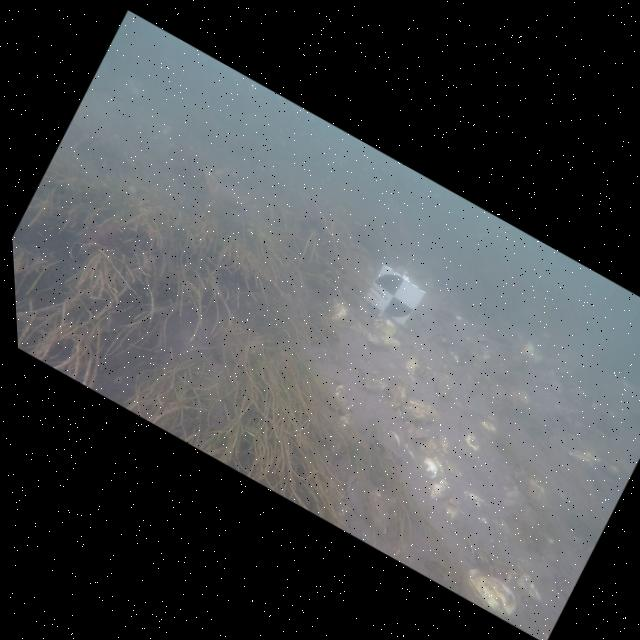Oyster-Closed: (467, 568, 515, 616), (396, 397, 440, 425), (388, 376, 410, 409), (374, 319, 396, 337), (365, 376, 387, 392)
Oyster-Indeterminate: (505, 566, 541, 601), (458, 434, 480, 460), (420, 457, 443, 480), (334, 383, 353, 410), (406, 425, 432, 441), (430, 480, 449, 499), (403, 356, 421, 376), (464, 492, 485, 508), (443, 503, 459, 521), (331, 303, 347, 320), (338, 414, 351, 429), (480, 421, 496, 433)
Oyster-Open: (371, 431, 402, 457), (366, 332, 399, 350), (415, 366, 428, 379)
